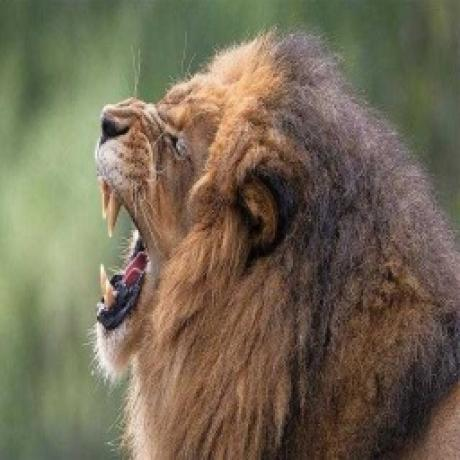Lion: (93, 29, 460, 460)
